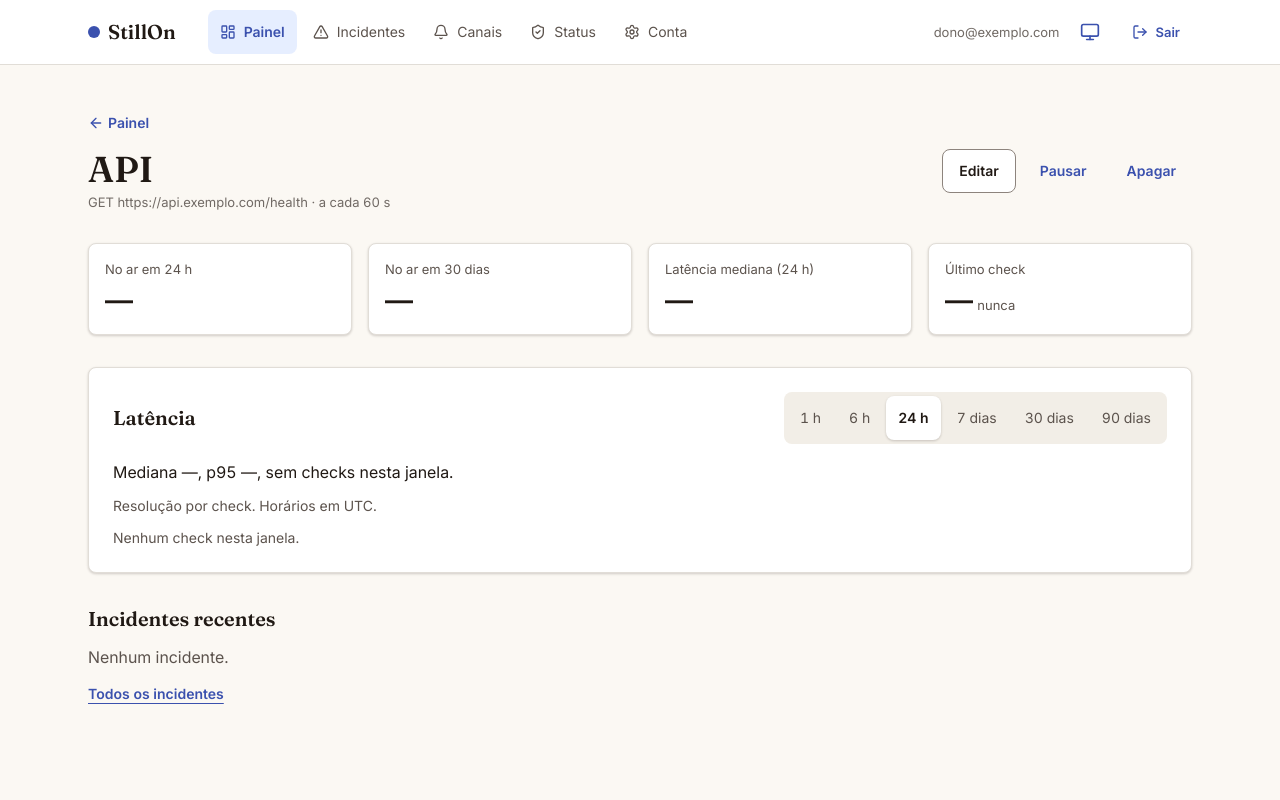
Test case: detalhe › Cancelar e Esc não apagam
Click the button "Apagar" at (1151, 171), box x1=1110 y1=149 x2=1192 y2=193
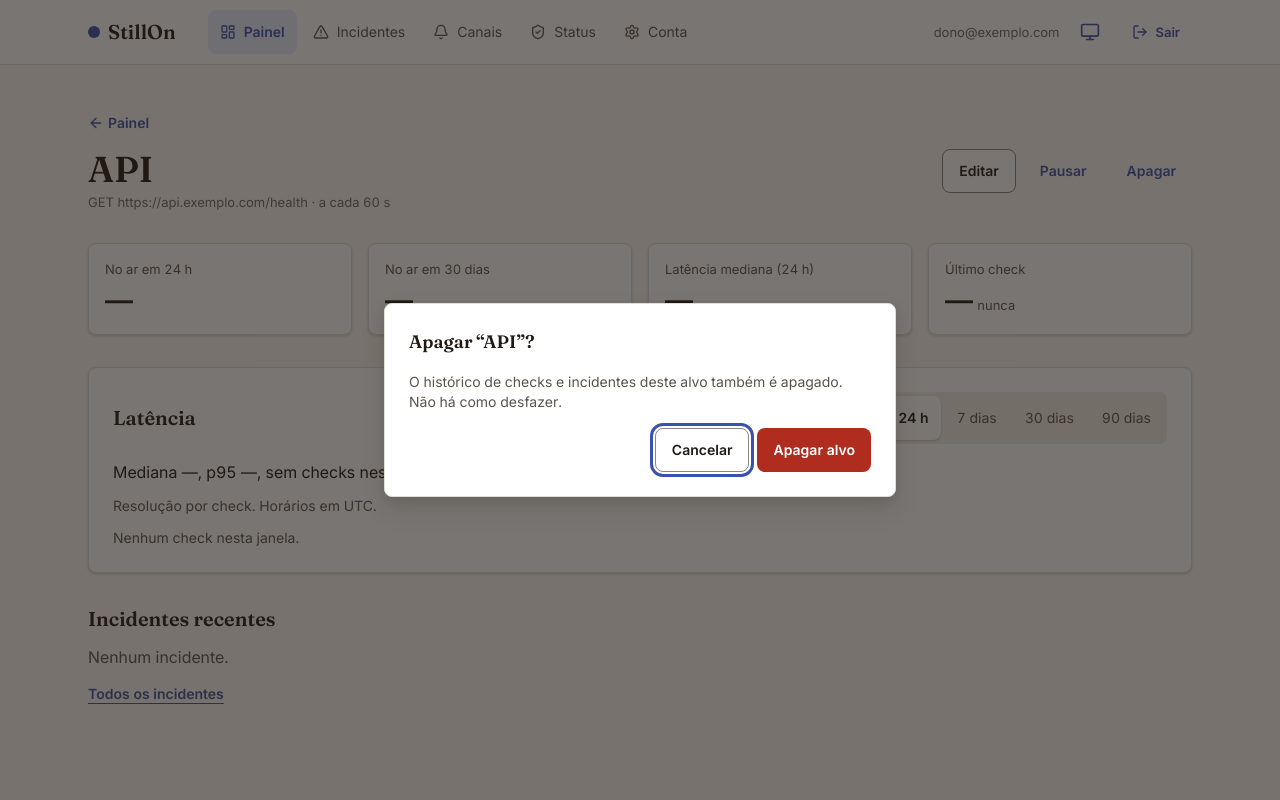
Click the button "Cancelar" at (702, 450), box x1=655 y1=428 x2=750 y2=472
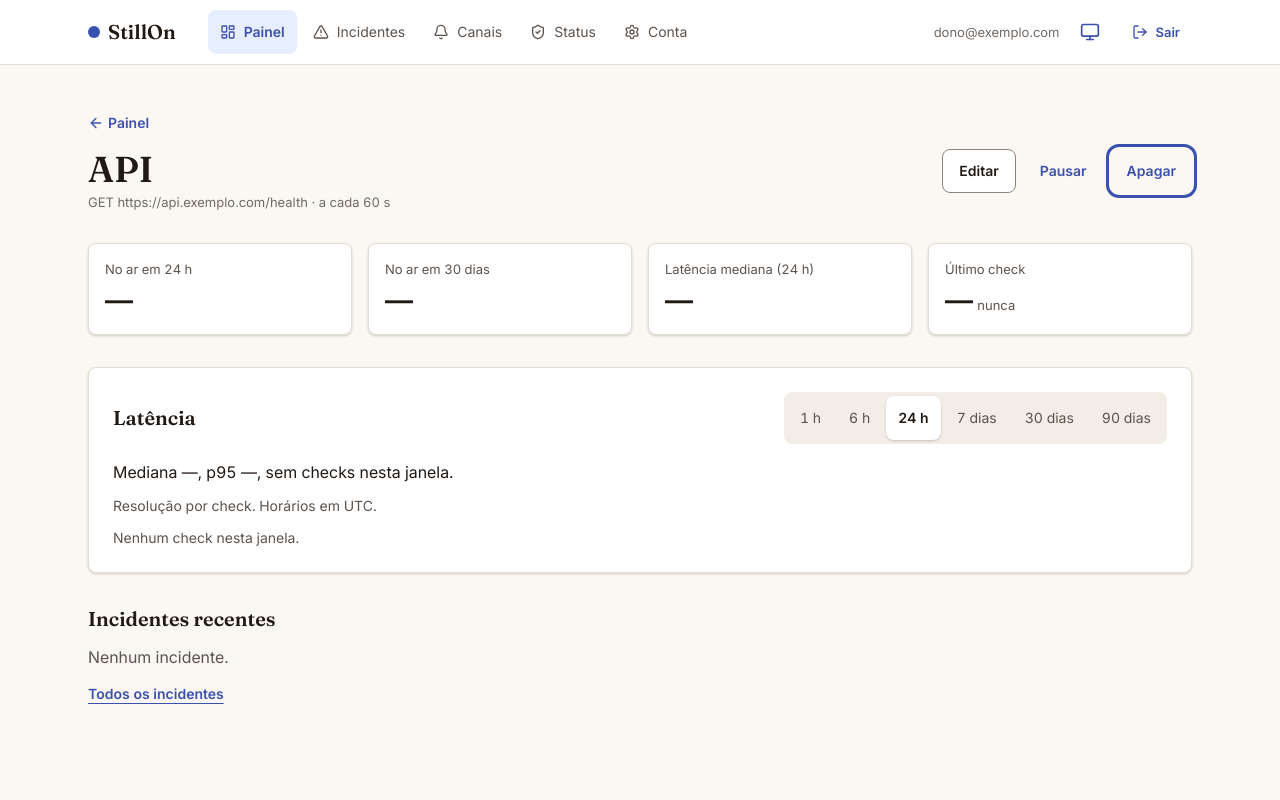
expect the dialog is gone: met
Click the button "Apagar" at (1151, 171), box x1=1110 y1=149 x2=1192 y2=193
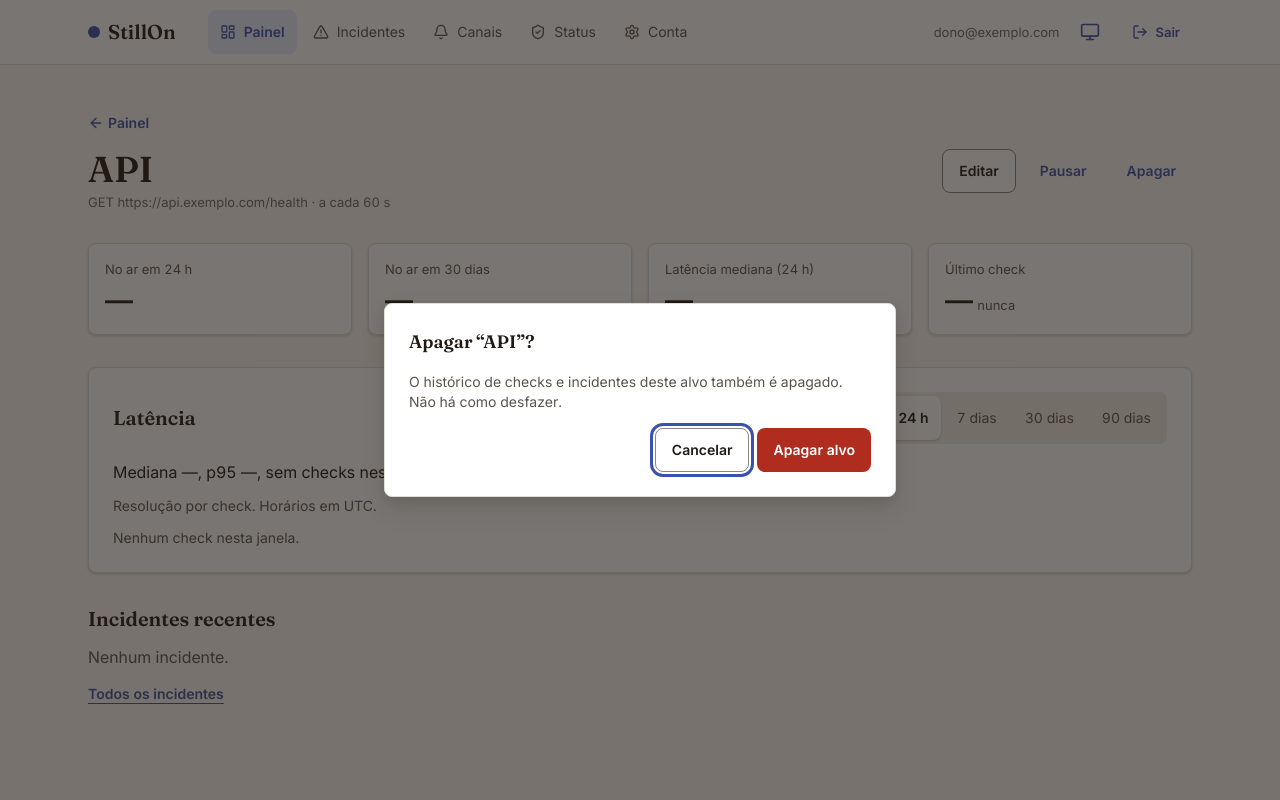
expect the dialog is shown: met, box x1=384 y1=303 x2=896 y2=497
Press Escape
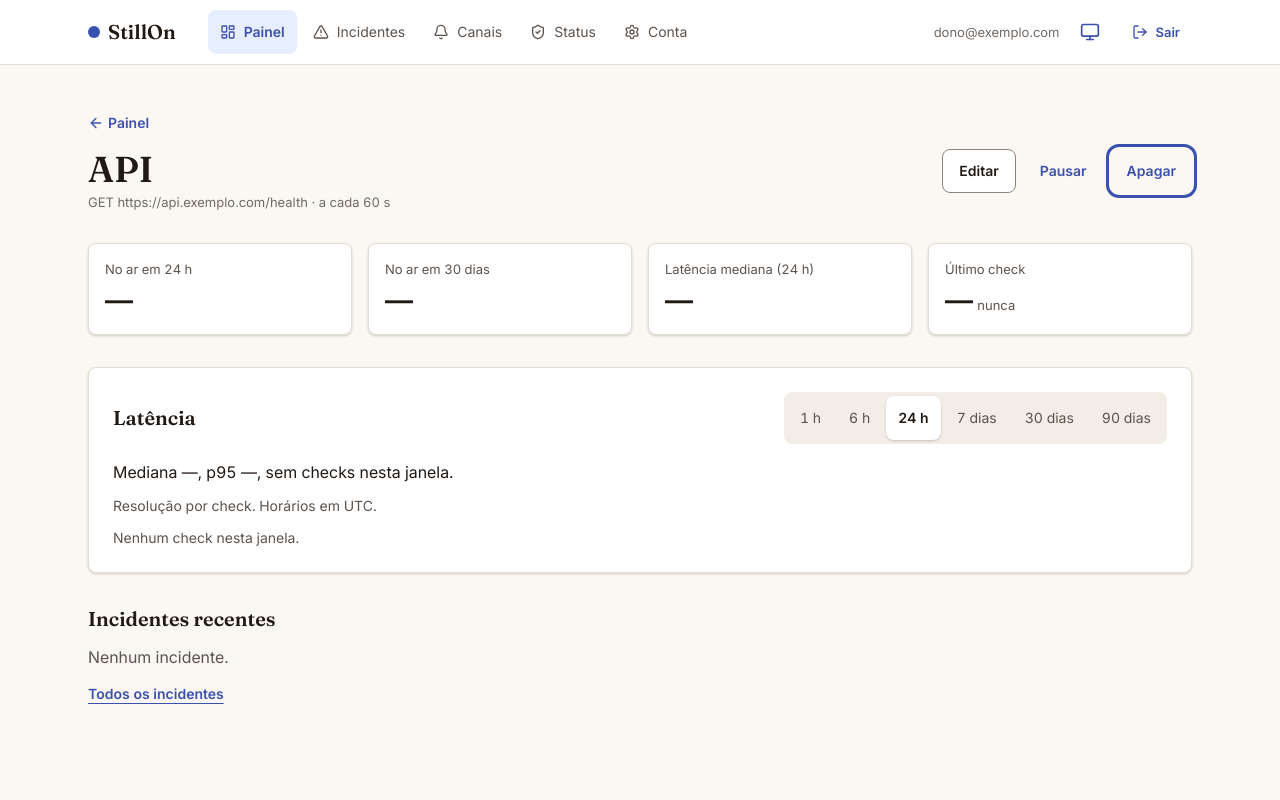
expect the dialog is gone: met
